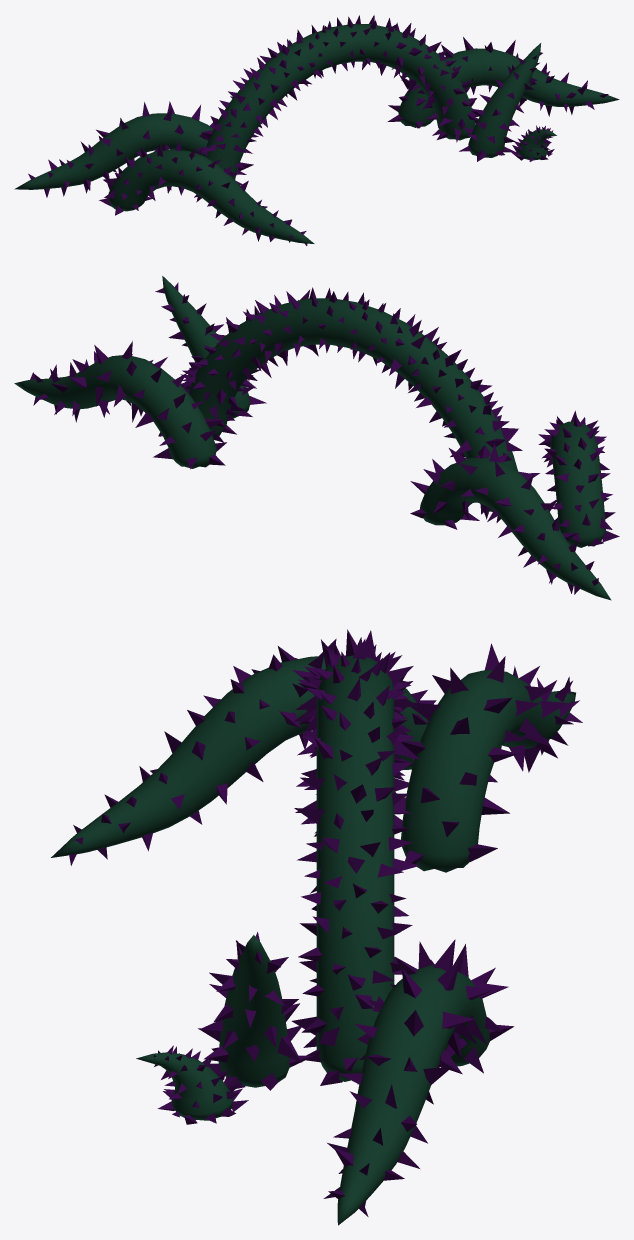
File: FBX_BramblesWithHole.fbx
3 renders of one model, top to bottom at view 1: azimuth 30°, elevation 25°; view 2: azimuth 150°, elevation 25°; view 3: azimuth 270°, elevation 25°, orthographic. The views are drawn at different scales.
Parts seen in each view (by area): view 1: brambles2; view 2: brambles2; view 3: brambles2.
Part boxes in pixels (bbox=[...]): brambles2: bbox=[14, 15, 619, 245]; brambles2: bbox=[14, 276, 619, 600]; brambles2: bbox=[51, 629, 582, 1225].
Size of the model in its own units: 1252 by 341 by 529.
